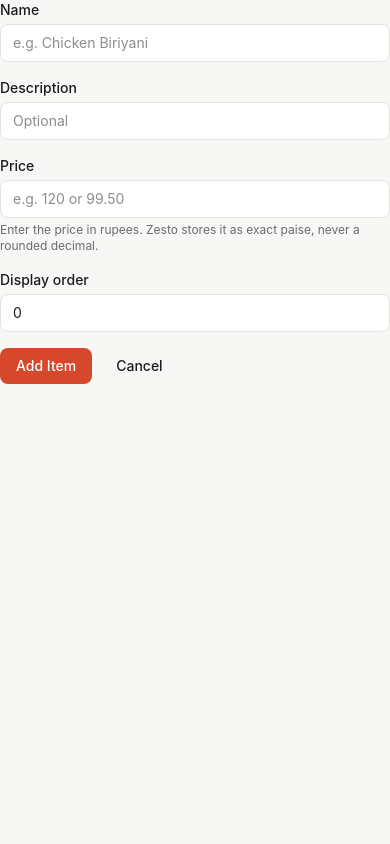
MenuItemForm (create) › requires a non-blank name
Type "120" into the field labelled "Price".
click(195, 199); type("120")  # box [0,180,389,218]
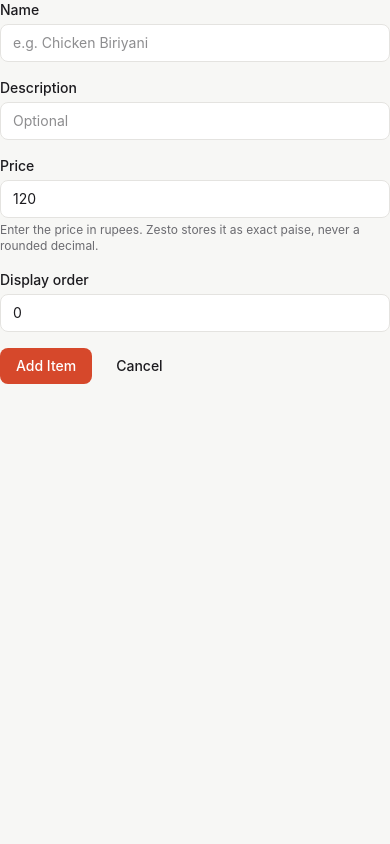
Click the button "Add Item".
click(46, 366)  # box [0,348,92,384]
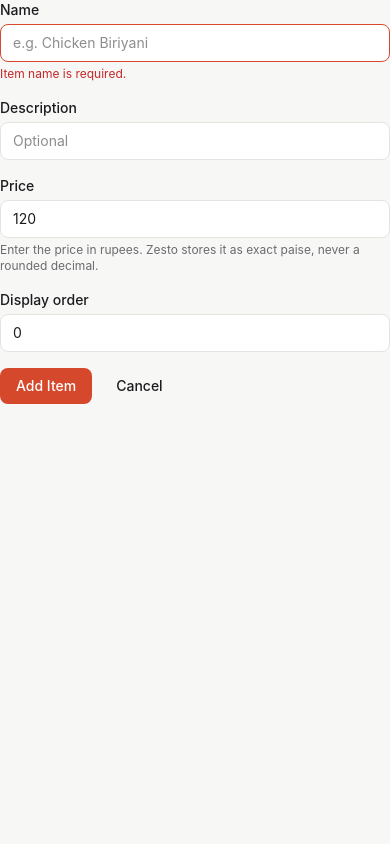
Expected: the text "Item name is required." is shown, [0,66,126,81]
